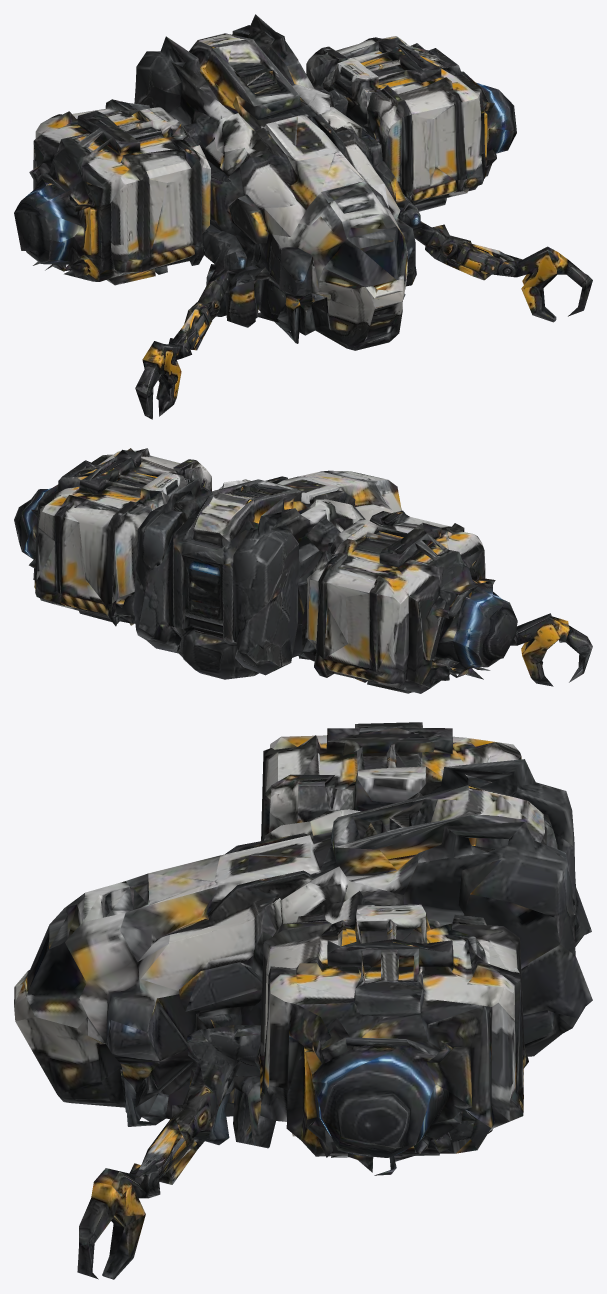
Rendered from garbage-collector.glb.
The picture shows the model from 3 angles, top to bottom: view 1: azimuth 30°, elevation 25°; view 2: azimuth 150°, elevation 25°; view 3: azimuth 270°, elevation 25°; orthographic projection. The views are drawn at different scales.
Size of the model in its own units: 1.9 by 0.8883 by 1.34.
Materials: 1 (1 with a texture image).
